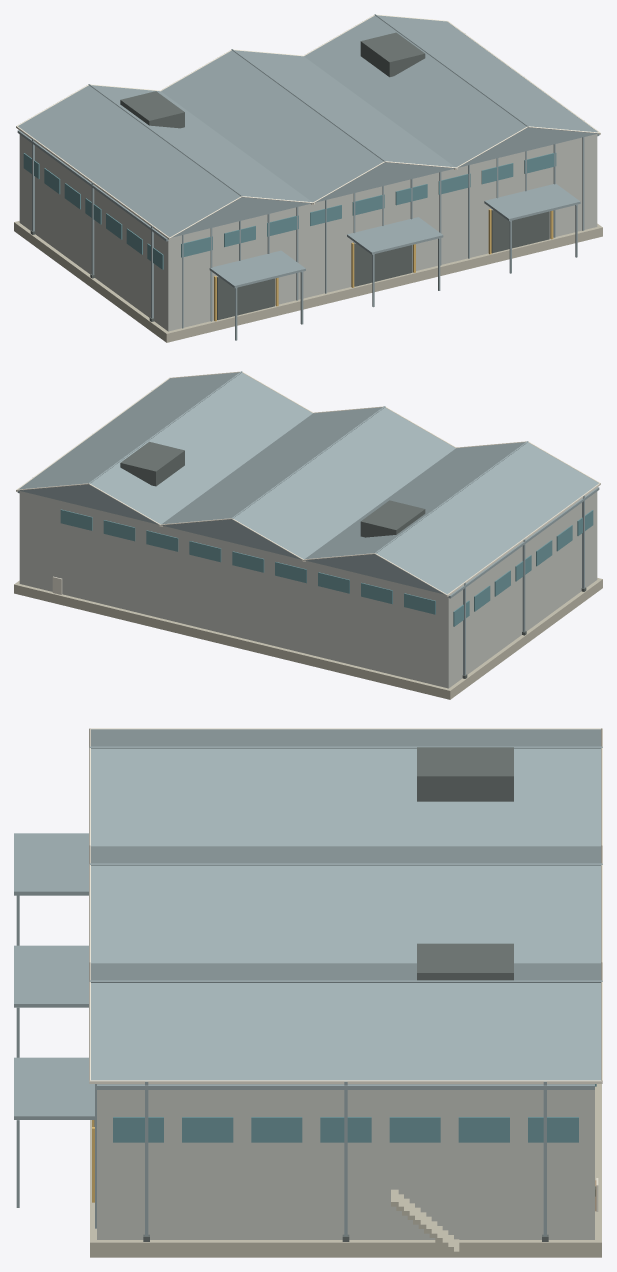
Rendered from production-0.glb.
The picture shows the model from 3 angles, top to bottom: view 1: azimuth 30°, elevation 25°; view 2: azimuth 150°, elevation 25°; view 3: azimuth 270°, elevation 25°; orthographic projection. The views are drawn at different scales.
Size of the model in its own units: 62.65 by 17.5 by 42.58.
